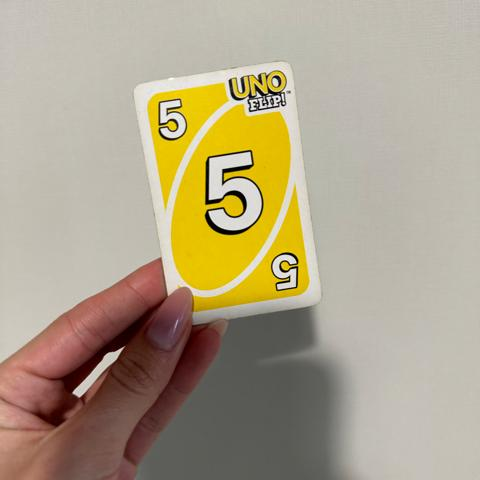lyellow-5: (146, 86, 206, 153)
